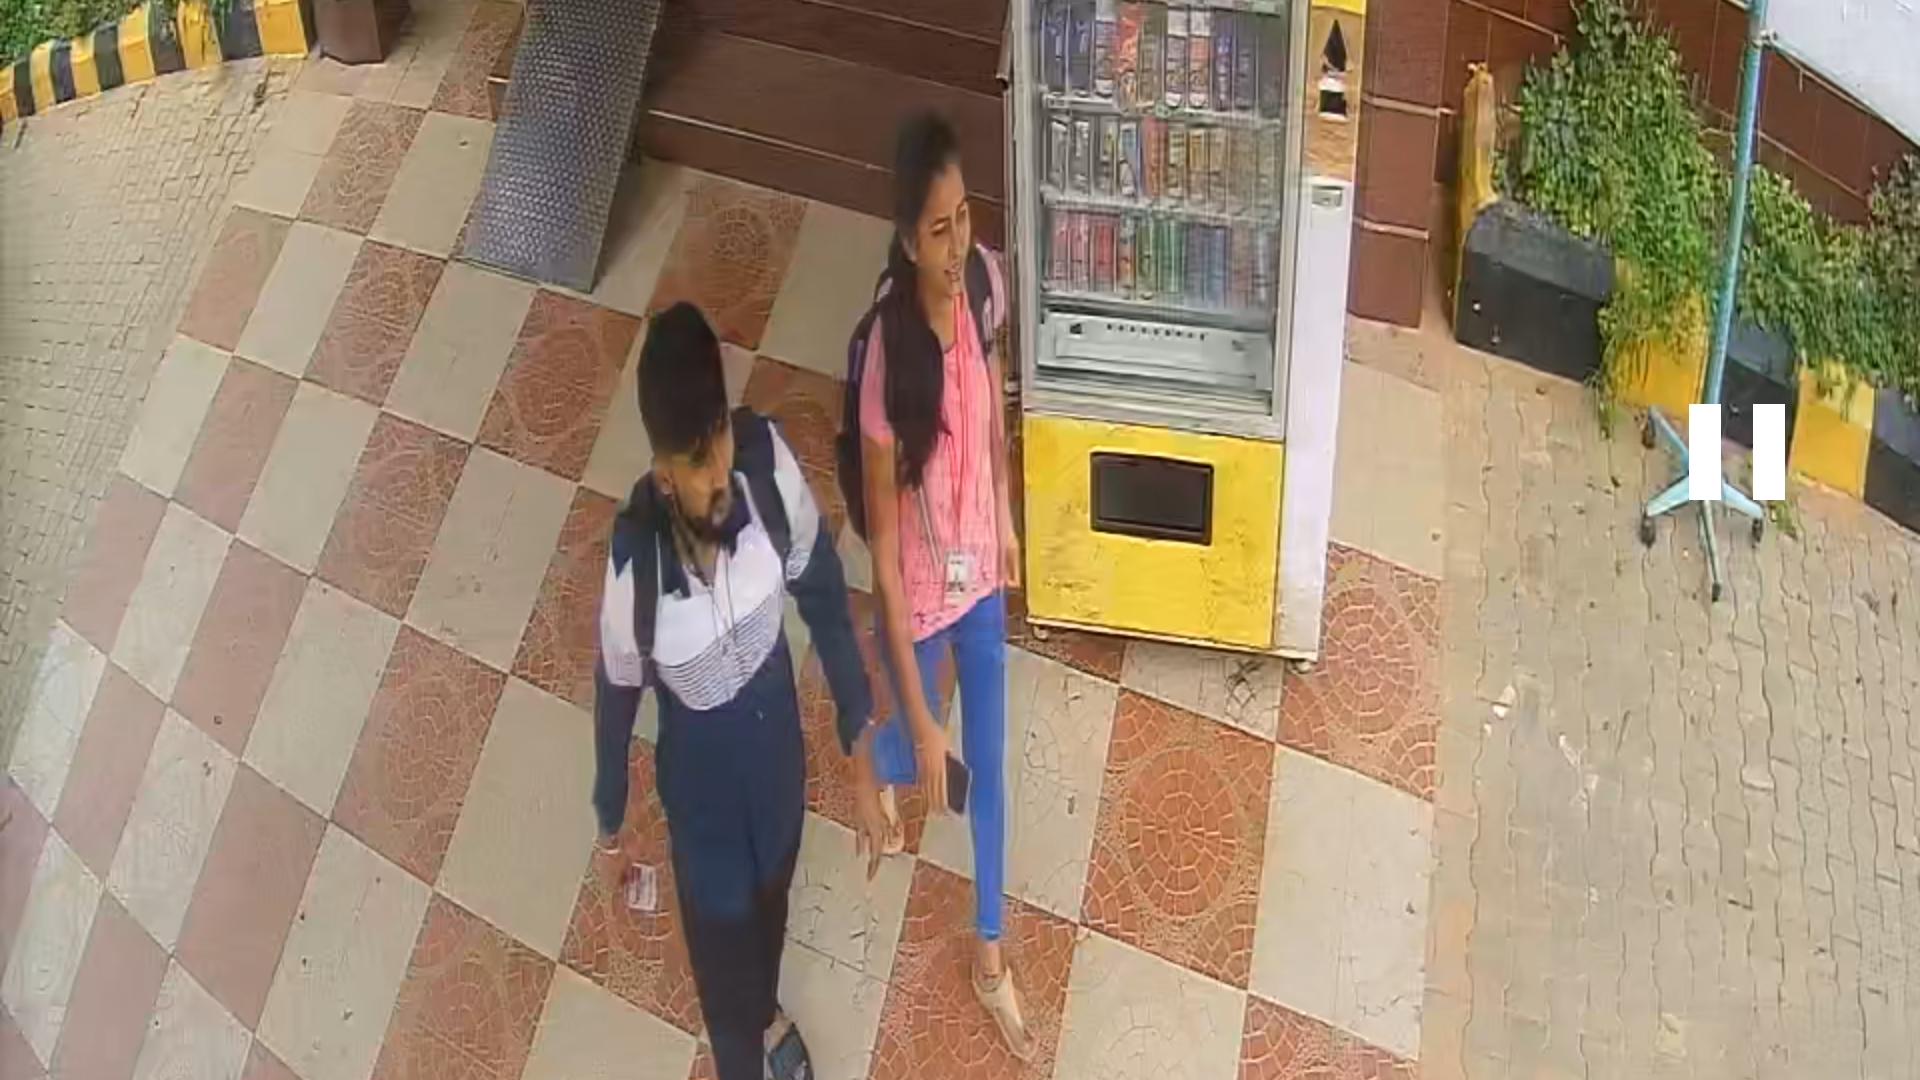intruder: (578, 303, 866, 1072)
not intruder: (852, 105, 1062, 1059)
